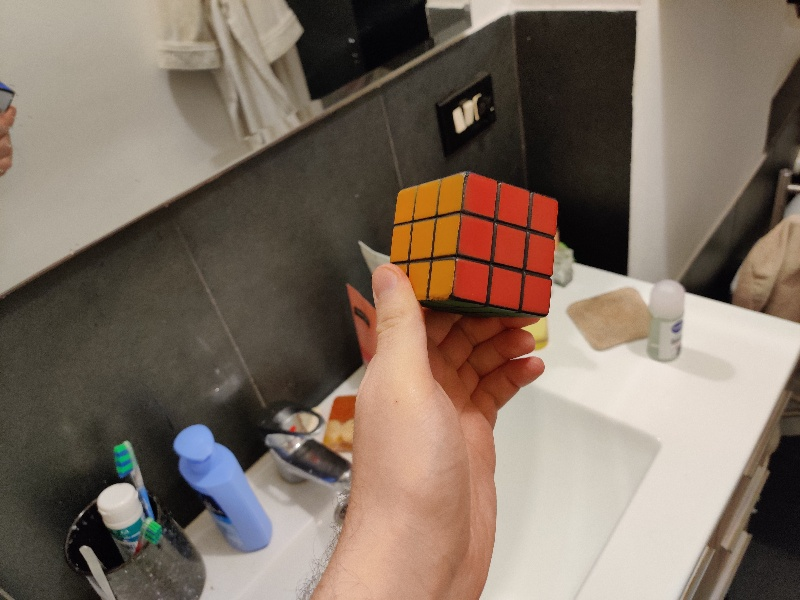rubik: (388, 174, 559, 321)
